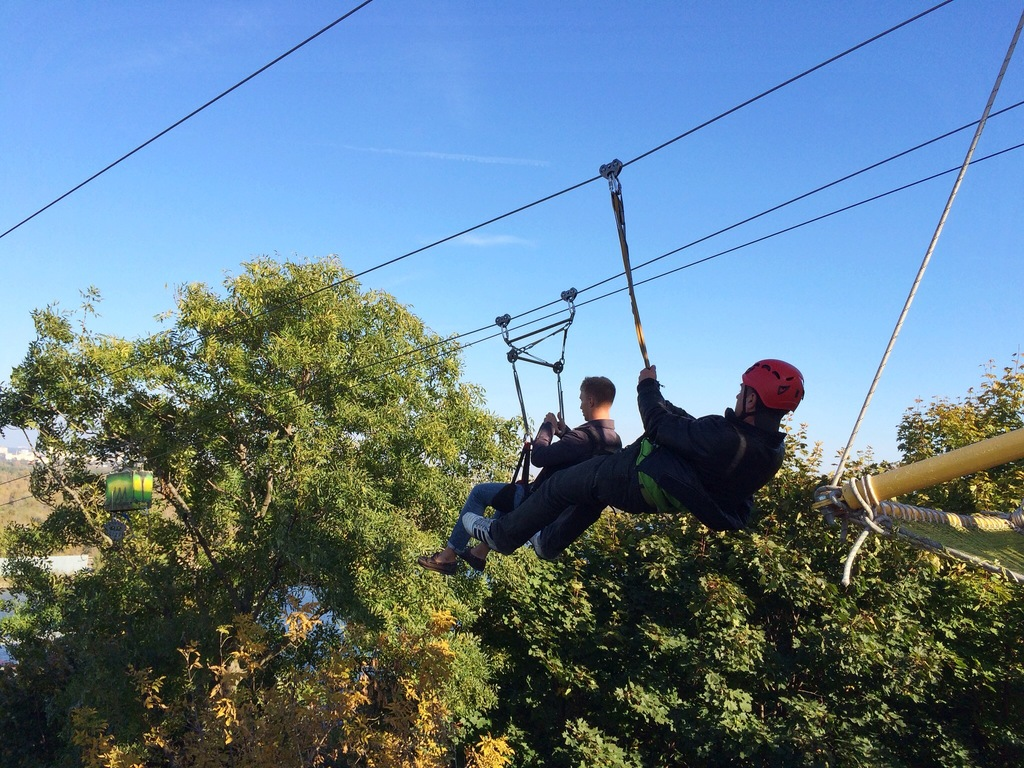Person: (459, 356, 805, 561), (416, 372, 623, 576)
